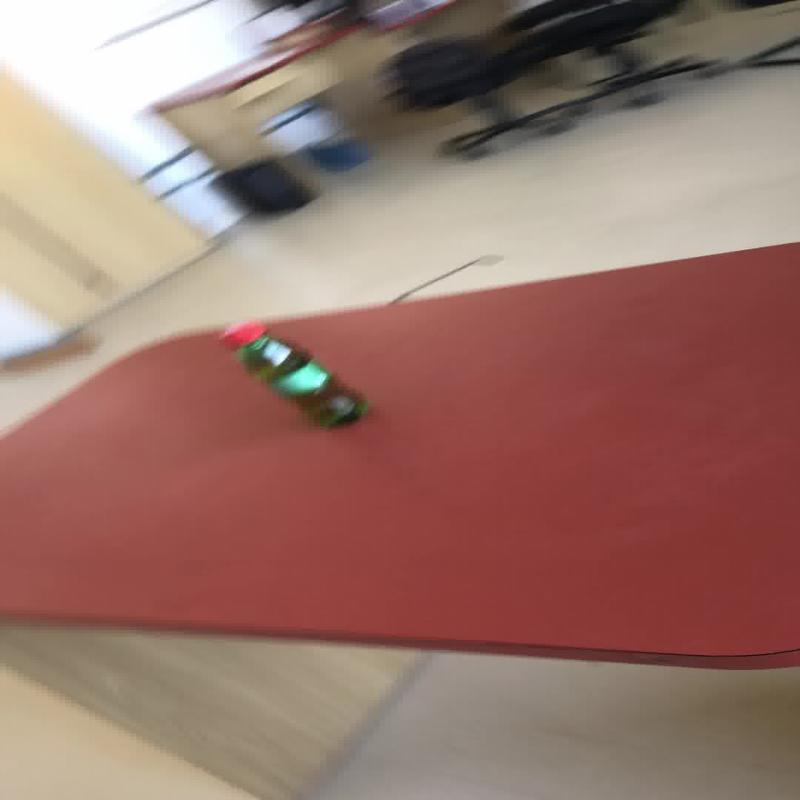guarana: (215, 318, 368, 429)
